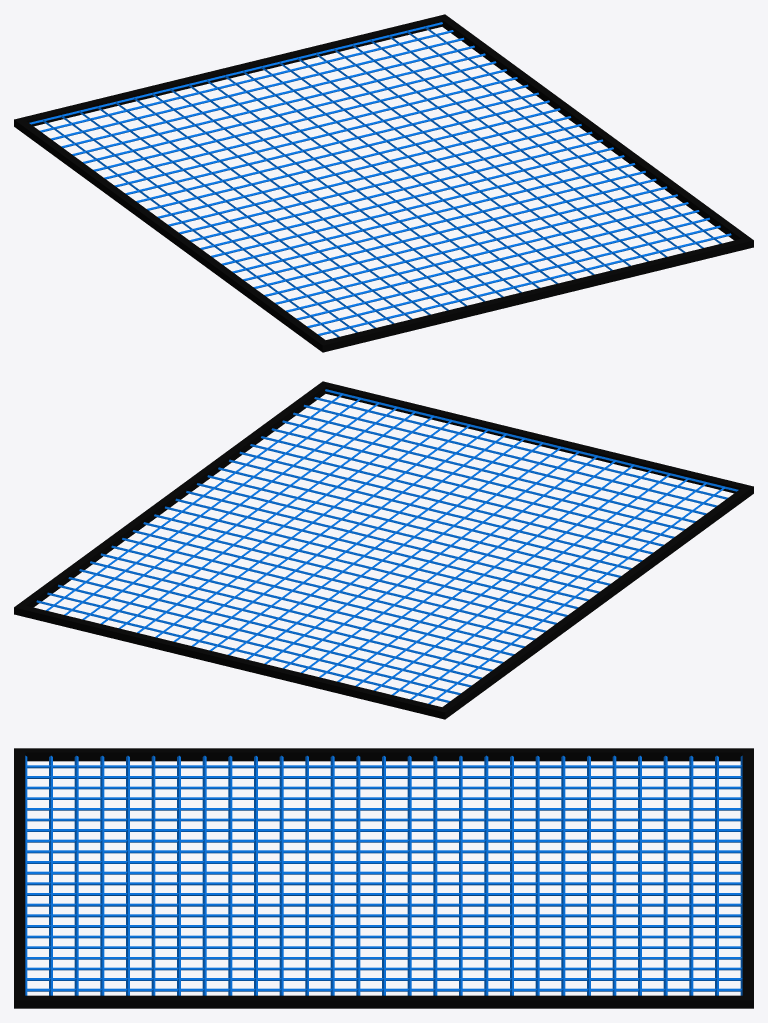
File: fence.fbx
3 renders of one model, top to bottom at view 1: azimuth 30°, elevation 25°; view 2: azimuth 150°, elevation 25°; view 3: azimuth 270°, elevation 25°, orthographic. The views are drawn at different scales.
Visible parts, largest first — view 1: Plane, Cube; view 2: Plane, Cube; view 3: Plane, Cube.
Boxes of the visible parts, x1,y1,x2,y2 form: Plane: [29, 22, 731, 337]; Cube: [14, 14, 753, 352]; Plane: [36, 389, 738, 704]; Cube: [14, 381, 753, 719]; Plane: [25, 755, 742, 995]; Cube: [14, 748, 753, 1008].
Size of the model in its own units: 369 by 5.79 by 457.
